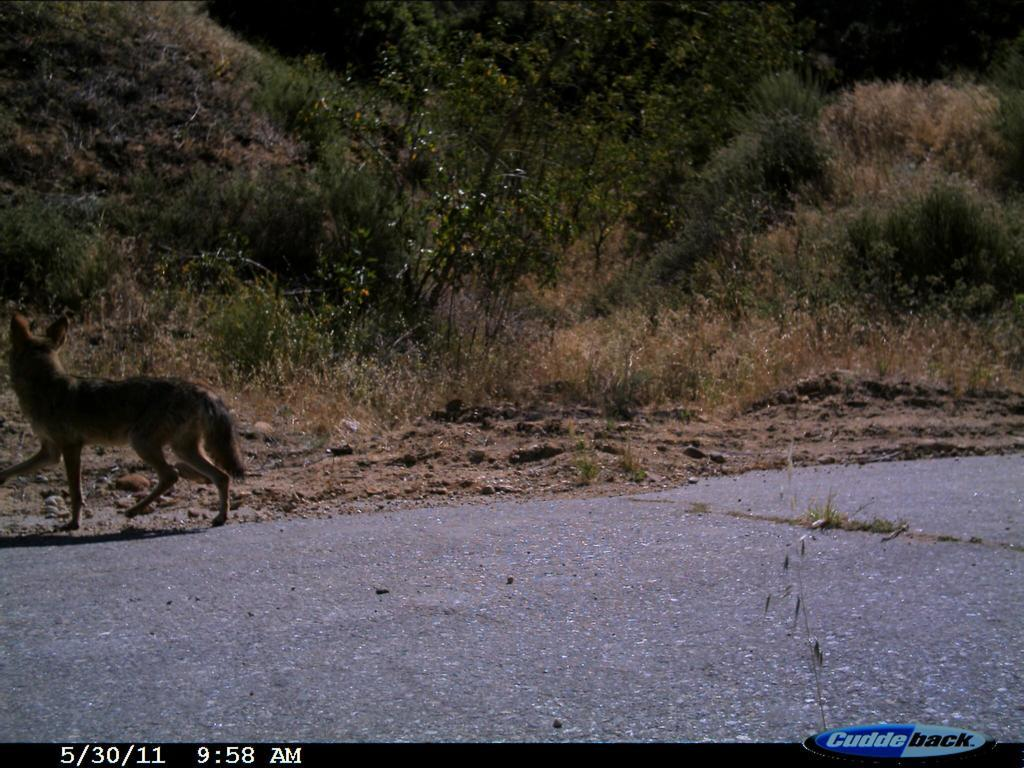coyote: (11, 308, 273, 533)
